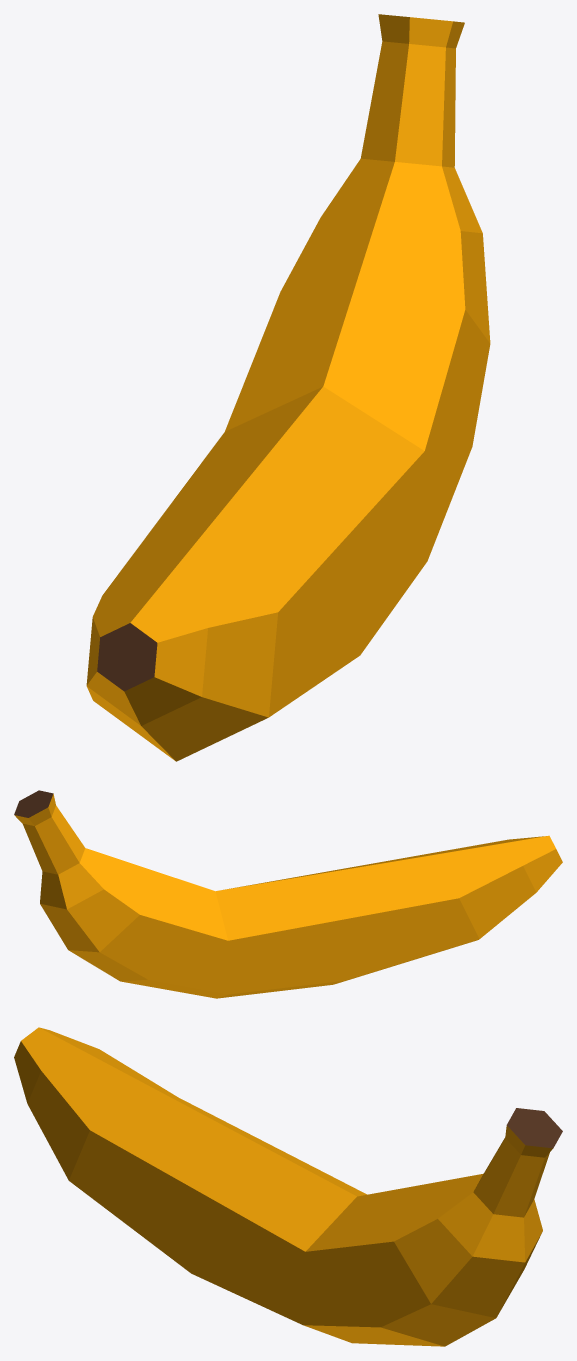
File: banana.fbx
3 renders of one model, top to bottom at view 1: azimuth 30°, elevation 25°; view 2: azimuth 150°, elevation 25°; view 3: azimuth 270°, elevation 25°, orthographic. The views are drawn at different scales.
Visible parts, largest first — view 1: Icosphere.002; view 2: Icosphere.002; view 3: Icosphere.002.
Boxes of the visible parts, x1,y1,x2,y2 form: Icosphere.002: [86, 14, 490, 761]; Icosphere.002: [14, 790, 562, 998]; Icosphere.002: [14, 1027, 562, 1346].
Size of the model in its own units: 165 by 97.75 by 161.
